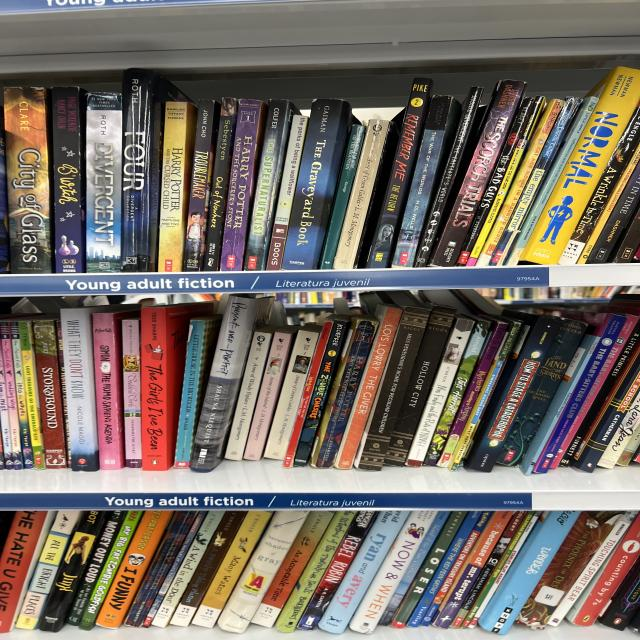book: (515, 61, 640, 275), (104, 287, 215, 475), (426, 74, 528, 273), (176, 287, 273, 477), (461, 313, 567, 478), (484, 91, 581, 271), (502, 92, 600, 268), (470, 92, 565, 272), (453, 94, 545, 271), (514, 494, 622, 638), (492, 314, 590, 472), (466, 92, 551, 272), (476, 496, 581, 640), (534, 312, 624, 480), (550, 313, 640, 478), (364, 75, 439, 272), (465, 92, 547, 271), (550, 313, 640, 474), (555, 104, 640, 271), (411, 83, 486, 271), (386, 92, 464, 272), (278, 94, 354, 277), (213, 498, 310, 639), (354, 303, 431, 475), (316, 501, 410, 639), (382, 302, 457, 471), (541, 503, 639, 630), (332, 304, 404, 473), (430, 504, 522, 636), (347, 503, 436, 639), (446, 321, 524, 473), (517, 331, 598, 477), (434, 319, 510, 471), (402, 315, 476, 470), (404, 503, 491, 634), (273, 503, 358, 637), (308, 316, 381, 471), (91, 501, 175, 635), (420, 317, 494, 468), (189, 502, 274, 633), (250, 502, 336, 631), (295, 504, 378, 635), (415, 502, 494, 635), (33, 503, 110, 637), (448, 505, 529, 632), (167, 504, 248, 631), (461, 506, 542, 631), (330, 116, 394, 274), (3, 86, 56, 275), (388, 506, 467, 632), (121, 503, 198, 632), (240, 97, 296, 273), (133, 503, 211, 629), (213, 98, 269, 273), (290, 315, 353, 470), (373, 505, 450, 629), (150, 505, 225, 632), (12, 504, 81, 634), (75, 506, 145, 633), (565, 516, 640, 633), (570, 146, 640, 267), (568, 359, 640, 476), (281, 318, 335, 469), (62, 505, 128, 628), (170, 311, 221, 470), (262, 326, 320, 462), (239, 328, 297, 463), (0, 500, 56, 636), (158, 102, 203, 271), (222, 324, 276, 463), (179, 99, 222, 273), (318, 123, 368, 271), (119, 69, 155, 272), (264, 114, 309, 272), (355, 119, 401, 270), (578, 161, 640, 272), (201, 97, 239, 272), (60, 308, 100, 472), (51, 87, 86, 273), (86, 93, 122, 273), (32, 318, 69, 470), (92, 313, 125, 470), (18, 320, 46, 470), (7, 322, 35, 469), (593, 388, 640, 474), (0, 322, 24, 470), (597, 558, 640, 637), (121, 319, 142, 468), (55, 320, 72, 467), (610, 207, 640, 269), (0, 110, 9, 272), (0, 361, 13, 469), (616, 427, 640, 470)
